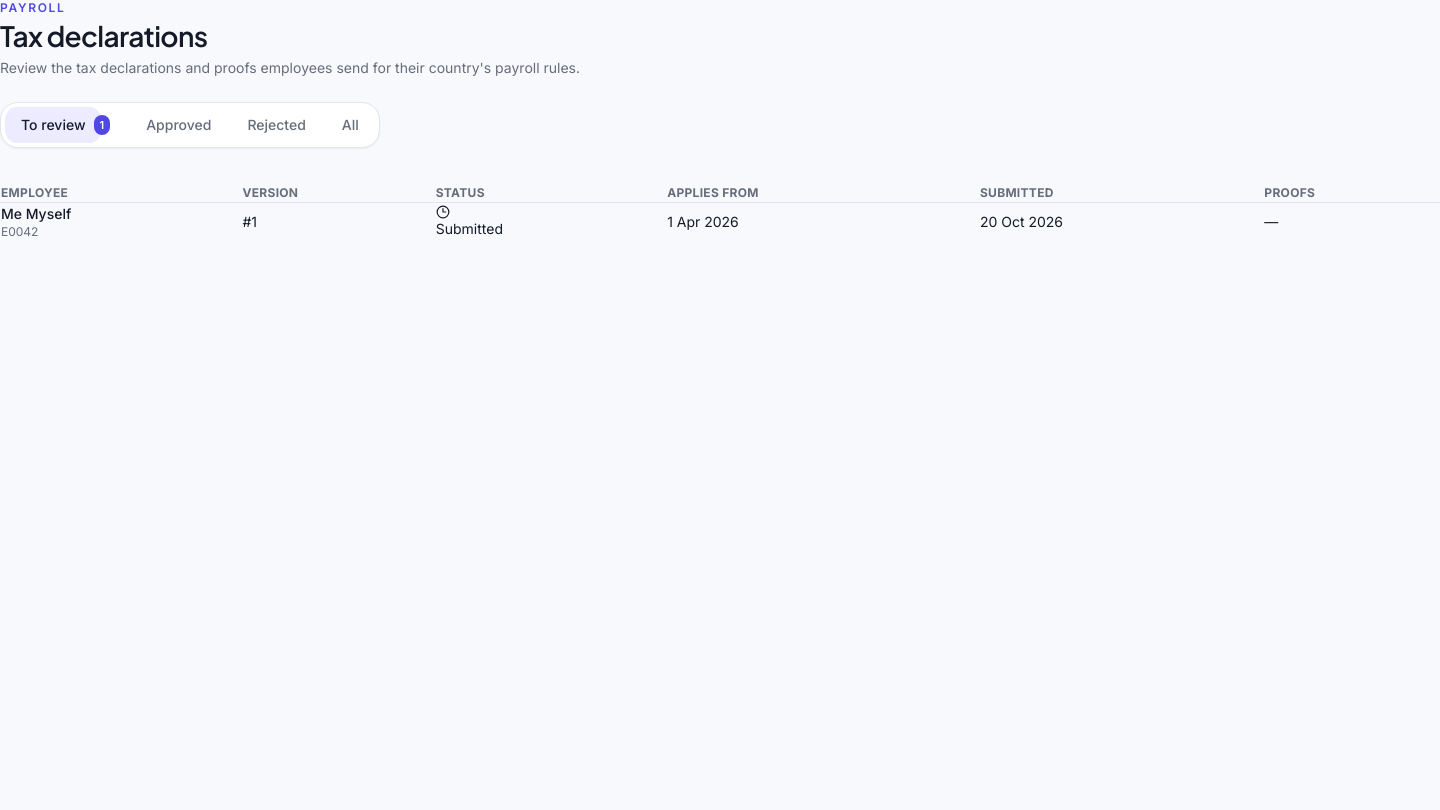
Test case: Tax declarations review › blocks a reviewer from reviewing their own declarations in the screen as well as on the server
The image size is (1440, 810).
Click the text "Me Myself" at (36, 214), box [1,205,71,222]
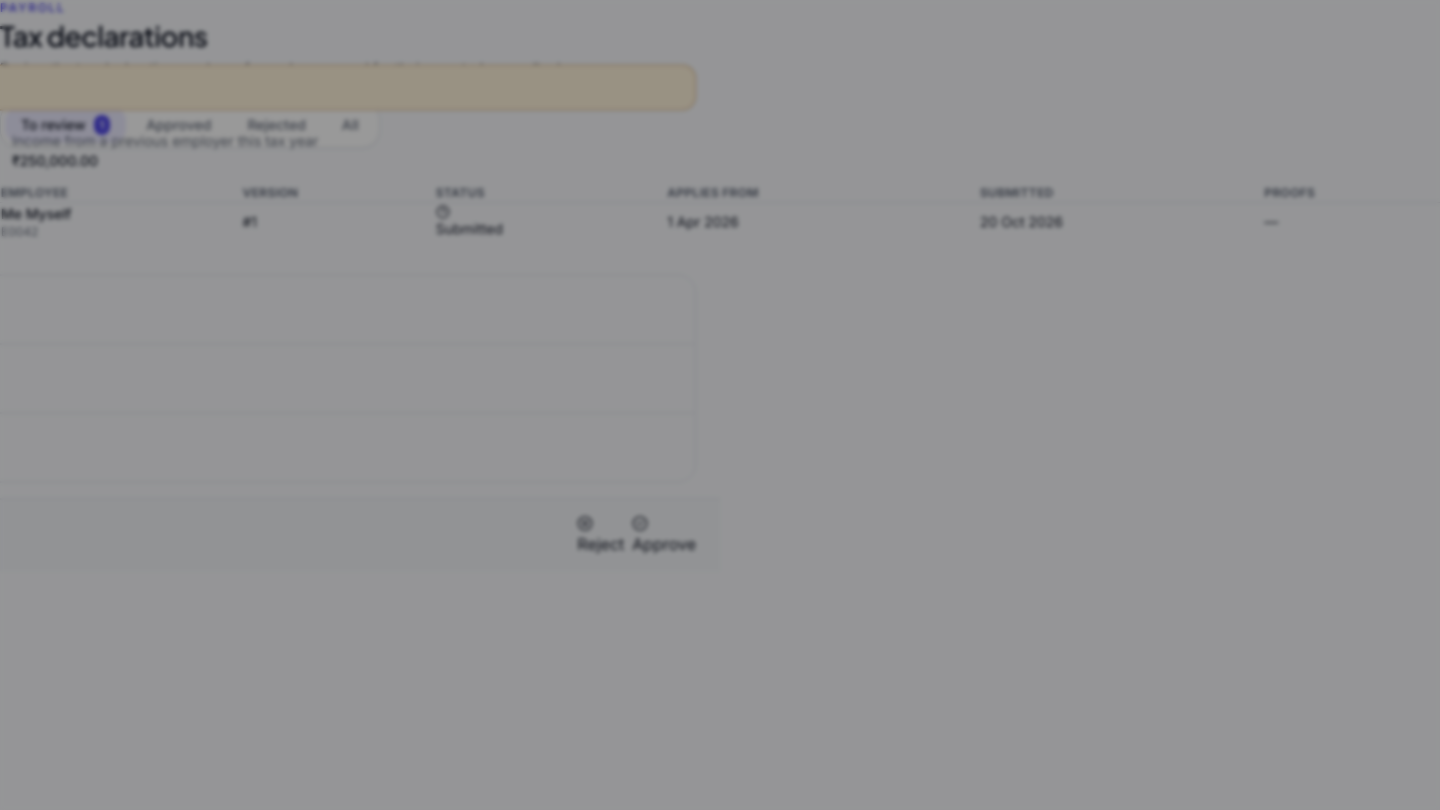
expect the button "Approve" is disabled: met, box [632,516,696,556]
expect the button "Reject" is disabled: met, box [577,516,624,556]
